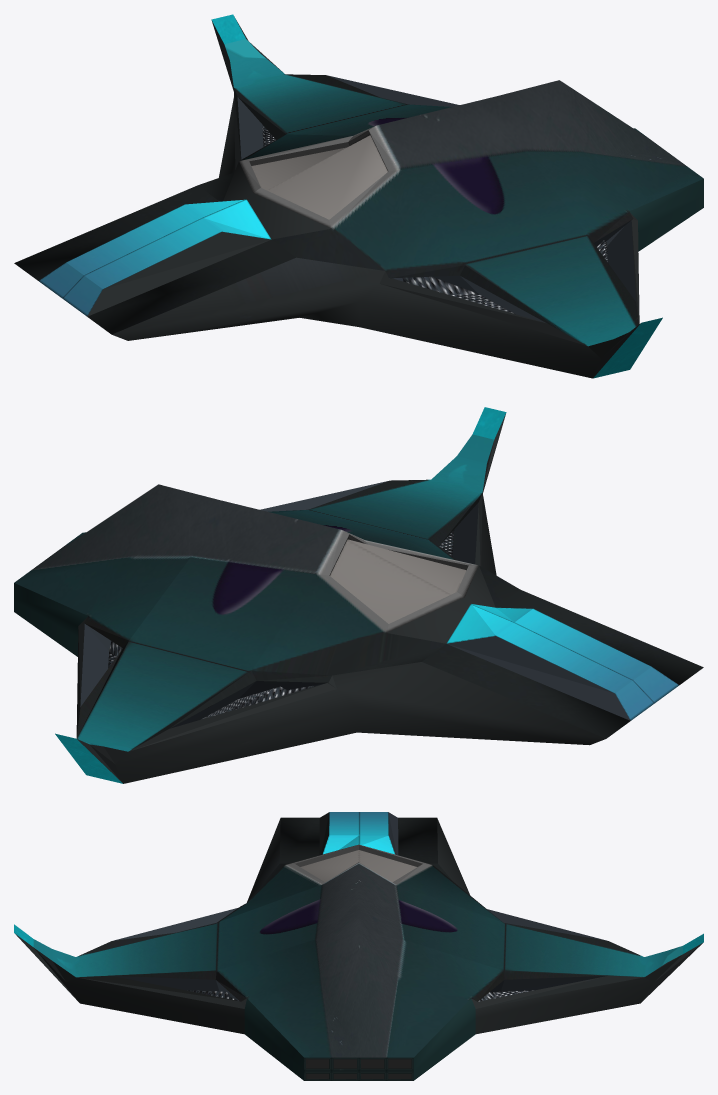
File: SpaceShip.FBX
3 renders of one model, top to bottom at view 1: azimuth 30°, elevation 25°; view 2: azimuth 150°, elevation 25°; view 3: azimuth 270°, elevation 25°, orthographic. The views are drawn at different scales.
Visible parts, largest first — view 1: Box001; view 2: Box001; view 3: Box001.
Part boxes in pixels (<box>): Box001: <box>14,14,703,378</box>; Box001: <box>14,407,703,783</box>; Box001: <box>14,812,703,1080</box>.
Size of the model in its own units: 111 by 26.71 by 136.
1 material, 1 textured.
